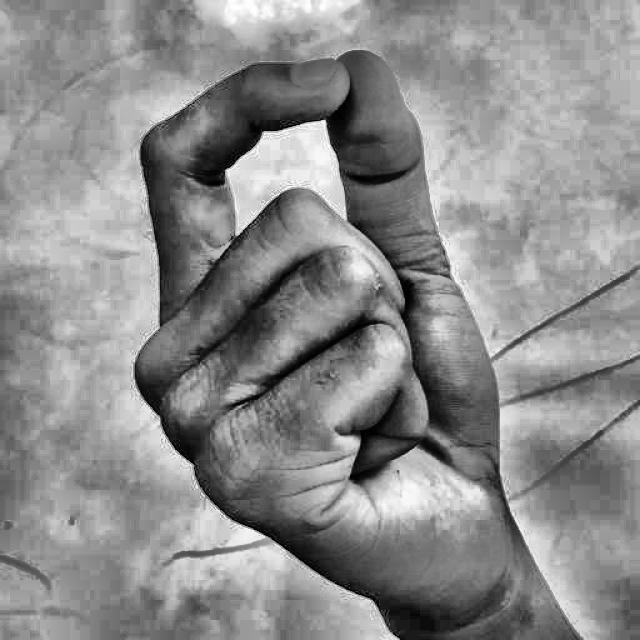Gha: (102, 32, 562, 640)
